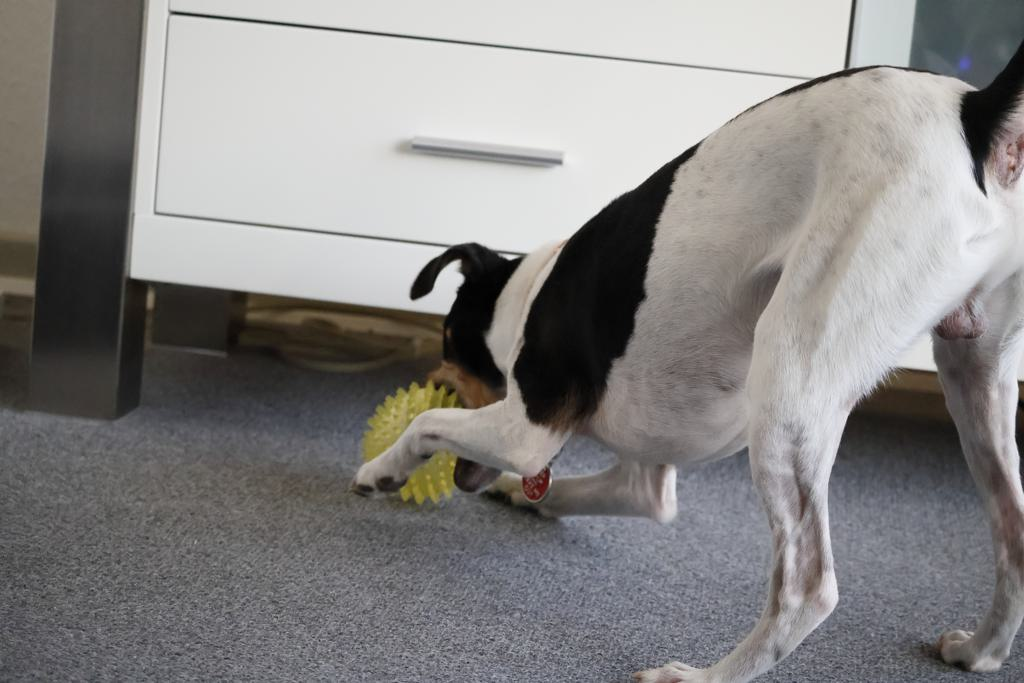Dog: (335, 29, 1024, 683)
